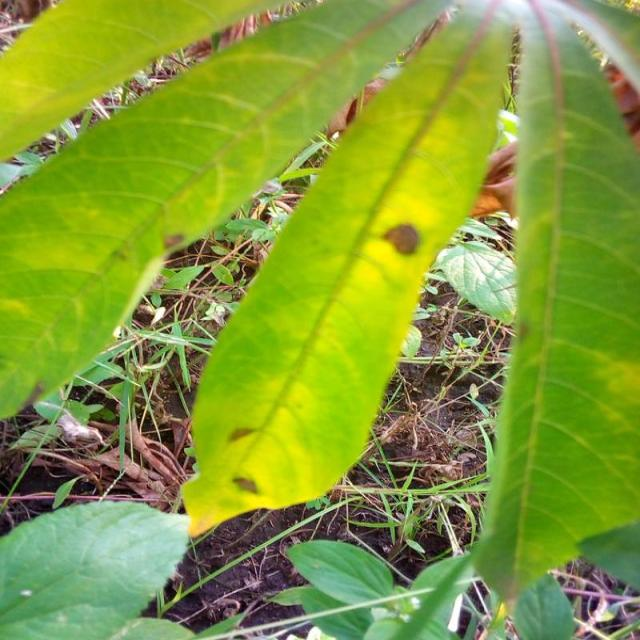cassava leaf: (0, 0, 455, 420), (179, 1, 512, 539), (471, 0, 639, 617), (0, 497, 192, 638)
